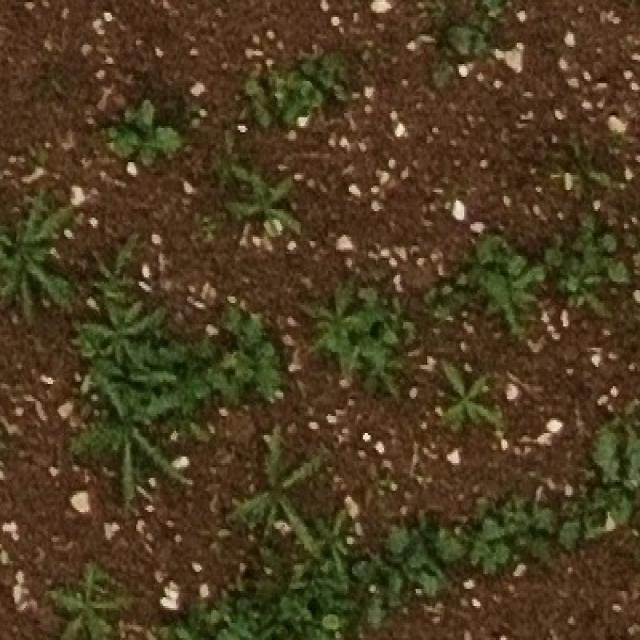cirse: (70, 370, 200, 506), (69, 357, 199, 489), (71, 358, 197, 489), (221, 449, 311, 588), (245, 452, 332, 594), (221, 455, 311, 588), (0, 193, 77, 341), (0, 179, 75, 322), (1, 188, 78, 327), (41, 533, 133, 612), (230, 170, 304, 253), (312, 299, 379, 385), (95, 279, 164, 362), (83, 285, 156, 363), (242, 156, 314, 233), (317, 303, 381, 389), (223, 162, 296, 237), (316, 296, 379, 382), (84, 287, 152, 365), (45, 584, 135, 640), (442, 377, 508, 452), (439, 365, 503, 441), (457, 373, 519, 449), (40, 592, 128, 640), (291, 520, 348, 588), (304, 527, 359, 595), (302, 507, 355, 576)
